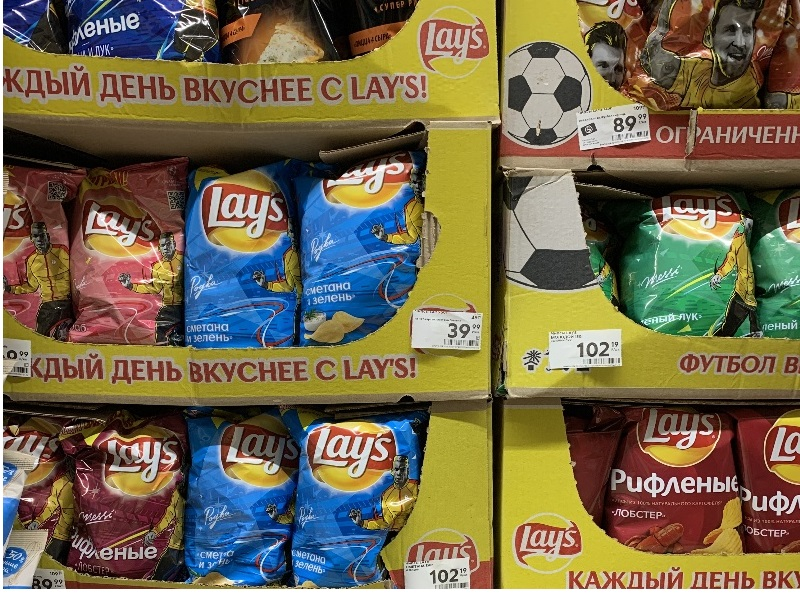chips: (60, 152, 196, 356), (282, 397, 423, 587), (54, 411, 199, 587), (178, 159, 304, 359), (179, 398, 305, 594)
